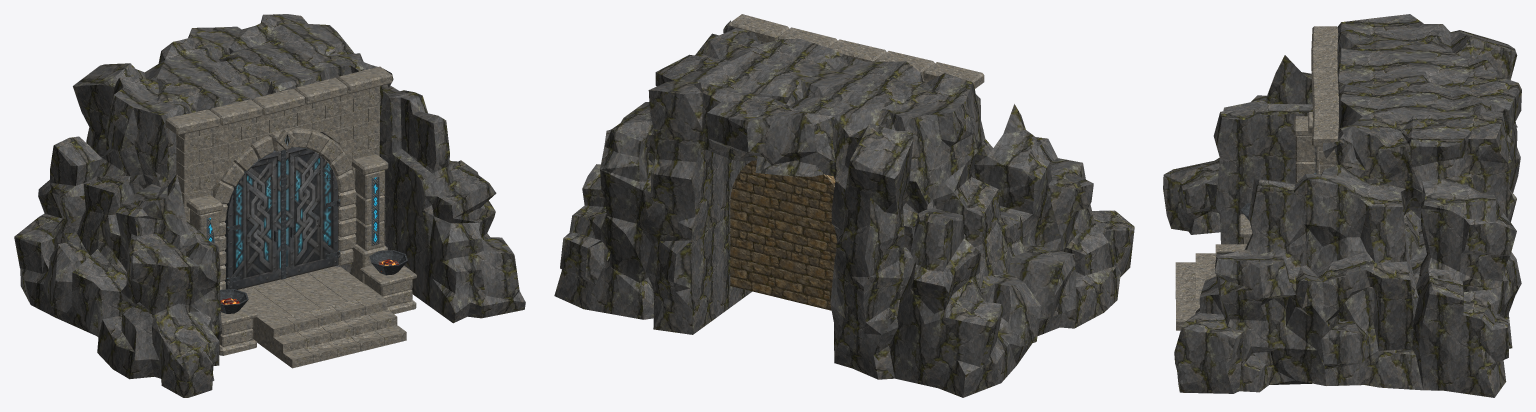
Rendered from dwarf-gate-v4.glb.
3 renders of one model, left to right at view 1: azimuth 30°, elevation 25°; view 2: azimuth 150°, elevation 25°; view 3: azimuth 270°, elevation 25°, orthographic. The views are drawn at different scales.
Visible parts, largest first — view 1: rock_mass, door_r, door_l, attic_cornice_0, attic_cornice_4, attic_cornice_3, attic_cornice_2, attic_cornice_1, landing_00, pedestal_r_slab, brazier_r, step_2_0 (+23 smaller); view 2: rock_mass, tunnel, attic_cornice_4, attic_cornice_0, attic_cornice_2, attic_cornice_1, attic_cornice_3; view 3: rock_mass, attic_cornice_4, attic_cornice_0, attic_cornice_2, attic_cornice_1, attic_cornice_3, pillar_l_shaft2, pillar_l_cap.
Boxes of the visible parts, left/top/right/bottom form: rock_mass: left=14, top=14, right=525, bottom=397; door_r: left=281, top=147, right=340, bottom=279; door_l: left=225, top=150, right=282, bottom=289; attic_cornice_0: left=165, top=109, right=220, bottom=135; attic_cornice_4: left=337, top=66, right=392, bottom=93; attic_cornice_3: left=295, top=77, right=347, bottom=104; attic_cornice_2: left=252, top=88, right=304, bottom=115; attic_cornice_1: left=210, top=99, right=262, bottom=125; landing_00: left=249, top=302, right=291, bottom=347; pedestal_r_slab: left=360, top=265, right=416, bottom=286; brazier_r: left=369, top=250, right=407, bottom=275; step_2_0: left=264, top=317, right=294, bottom=353; rock_mass: left=554, top=20, right=1134, bottom=397; tunnel: left=730, top=160, right=837, bottom=310; attic_cornice_4: left=728, top=14, right=789, bottom=42; attic_cornice_0: left=923, top=62, right=984, bottom=88; attic_cornice_2: left=828, top=39, right=886, bottom=61; attic_cornice_1: left=875, top=51, right=934, bottom=79; attic_cornice_3: left=778, top=27, right=837, bottom=47; rock_mass: left=1163, top=14, right=1521, bottom=397; attic_cornice_4: left=1312, top=116, right=1338, bottom=146; attic_cornice_0: left=1311, top=26, right=1338, bottom=55; attic_cornice_2: left=1311, top=72, right=1338, bottom=96; attic_cornice_1: left=1311, top=50, right=1337, bottom=73; attic_cornice_3: left=1312, top=94, right=1338, bottom=117; pillar_l_shaft2: left=1295, top=136, right=1315, bottom=161; pillar_l_cap: left=1293, top=116, right=1312, bottom=136.
Bounding box in the file's own units: 9.33 × 5.03 × 7.17.
10 materials, 9 textured.
